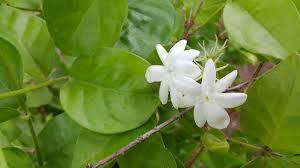jasmine: (173, 56, 263, 126), (138, 29, 210, 108)
